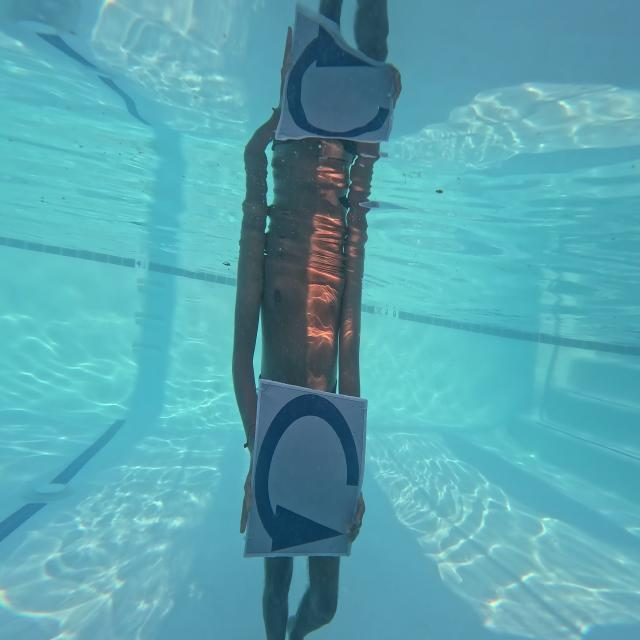blue_side: (255, 391, 365, 561)
